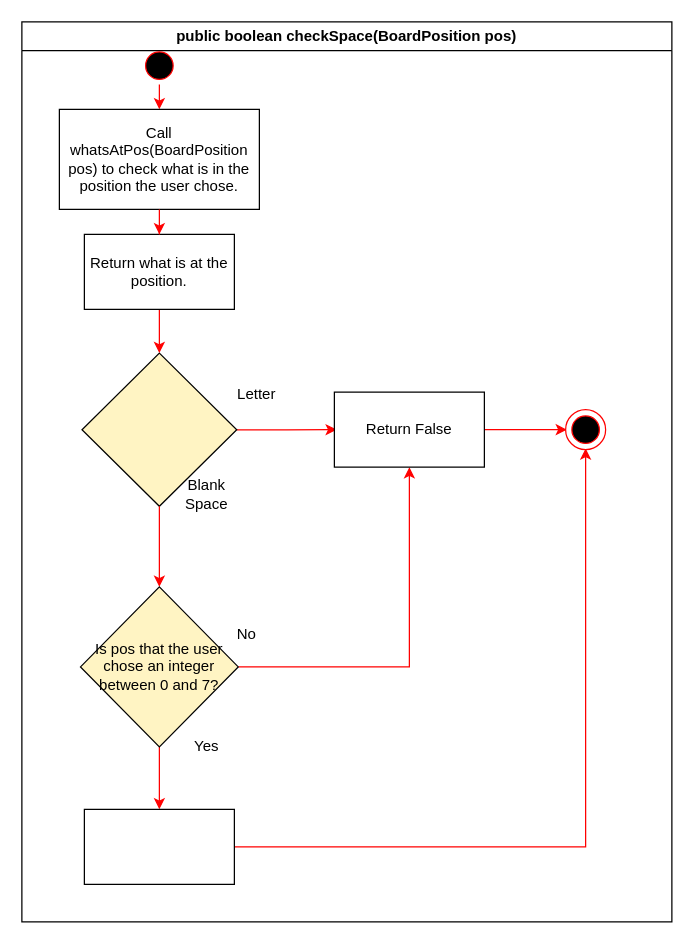
Some shapes in this 694 by 944 pixel diagram are drawn without their labels. The shapes that lost their labels are listed below. From the top down, each one's centre as x and y in pixels, then its label:
the point at 159,429: Did the function call return a blank space or a letter?
the point at 158,846: Return True
